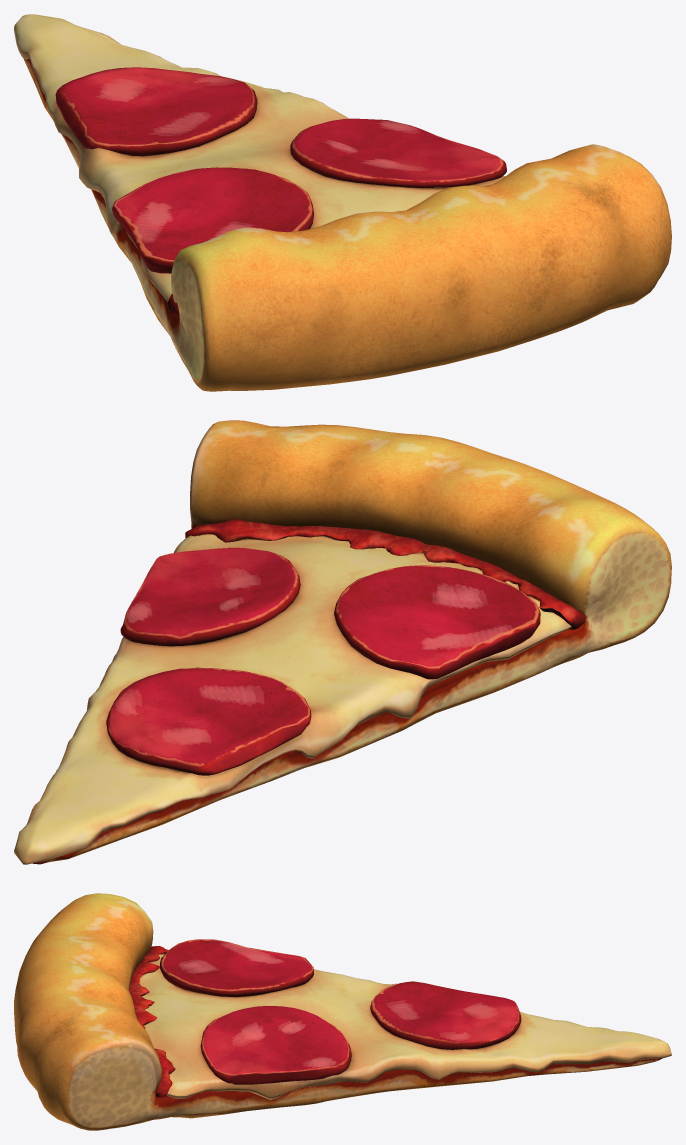
The model's file is pizza.dae.
The picture shows the model from 3 angles, top to bottom: view 1: azimuth 30°, elevation 25°; view 2: azimuth 150°, elevation 25°; view 3: azimuth 270°, elevation 25°; orthographic projection. The views are drawn at different scales.
Parts seen in each view (by area): view 1: pizza; view 2: pizza; view 3: pizza.
Boxes of the visible parts, x1,y1,x2,y2 form: pizza: (14, 14, 671, 391); pizza: (14, 420, 671, 864); pizza: (14, 893, 671, 1130).
Size of the model in its own units: 61.24 by 17.09 by 105.
